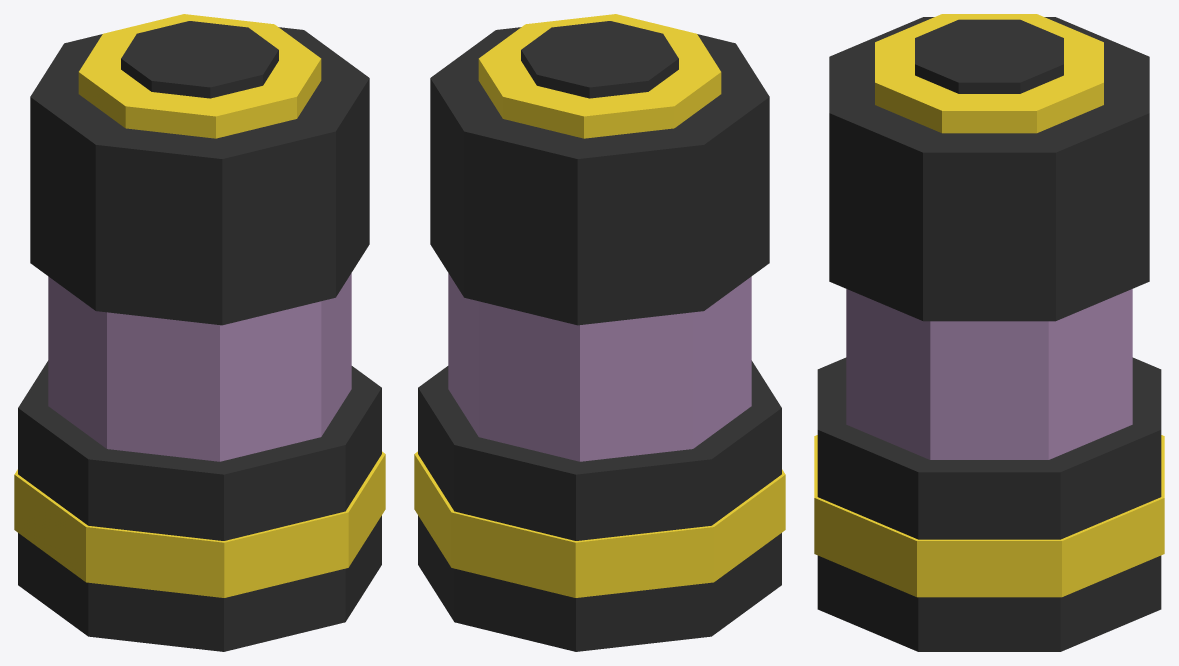
The model's file is ce_ammo_fuelcell_demo_a.obj.
3 renders of one model, left to right at view 1: azimuth 30°, elevation 25°; view 2: azimuth 150°, elevation 25°; view 3: azimuth 270°, elevation 25°, orthographic.
Visible parts, largest first — view 1: ce_ammo_fuelcell_demo_a_4, ce_ammo_fuelcell_demo_a_3, ce_ammo_fuelcell_demo_a_2, ce_ammo_fuelcell_demo_a_1, ce_ammo_fuelcell_demo_a_0, ce_ammo_fuelcell_demo_a_5, ce_ammo_fuelcell_demo_a_6; view 2: ce_ammo_fuelcell_demo_a_4, ce_ammo_fuelcell_demo_a_3, ce_ammo_fuelcell_demo_a_2, ce_ammo_fuelcell_demo_a_1, ce_ammo_fuelcell_demo_a_0, ce_ammo_fuelcell_demo_a_5, ce_ammo_fuelcell_demo_a_6; view 3: ce_ammo_fuelcell_demo_a_4, ce_ammo_fuelcell_demo_a_3, ce_ammo_fuelcell_demo_a_2, ce_ammo_fuelcell_demo_a_1, ce_ammo_fuelcell_demo_a_0, ce_ammo_fuelcell_demo_a_5, ce_ammo_fuelcell_demo_a_6.
Part boxes in pixels (x1,y1,x2,y2): ce_ammo_fuelcell_demo_a_4: [30, 27, 369, 325]; ce_ammo_fuelcell_demo_a_3: [48, 273, 351, 461]; ce_ammo_fuelcell_demo_a_2: [18, 360, 381, 540]; ce_ammo_fuelcell_demo_a_1: [14, 451, 385, 597]; ce_ammo_fuelcell_demo_a_0: [18, 515, 381, 651]; ce_ammo_fuelcell_demo_a_5: [78, 14, 321, 138]; ce_ammo_fuelcell_demo_a_6: [121, 21, 278, 98]; ce_ammo_fuelcell_demo_a_4: [430, 27, 769, 325]; ce_ammo_fuelcell_demo_a_3: [448, 273, 751, 461]; ce_ammo_fuelcell_demo_a_2: [418, 360, 781, 540]; ce_ammo_fuelcell_demo_a_1: [414, 451, 785, 597]; ce_ammo_fuelcell_demo_a_0: [418, 515, 781, 651]; ce_ammo_fuelcell_demo_a_5: [478, 14, 721, 138]; ce_ammo_fuelcell_demo_a_6: [521, 21, 678, 98]; ce_ammo_fuelcell_demo_a_4: [829, 17, 1149, 321]; ce_ammo_fuelcell_demo_a_3: [846, 289, 1132, 459]; ce_ammo_fuelcell_demo_a_2: [817, 357, 1161, 539]; ce_ammo_fuelcell_demo_a_1: [814, 435, 1164, 597]; ce_ammo_fuelcell_demo_a_0: [817, 555, 1161, 651]; ce_ammo_fuelcell_demo_a_5: [875, 14, 1103, 133]; ce_ammo_fuelcell_demo_a_6: [915, 19, 1063, 93].
Bounding box in the file's own units: 0.2828 × 0.47 × 0.2828.
